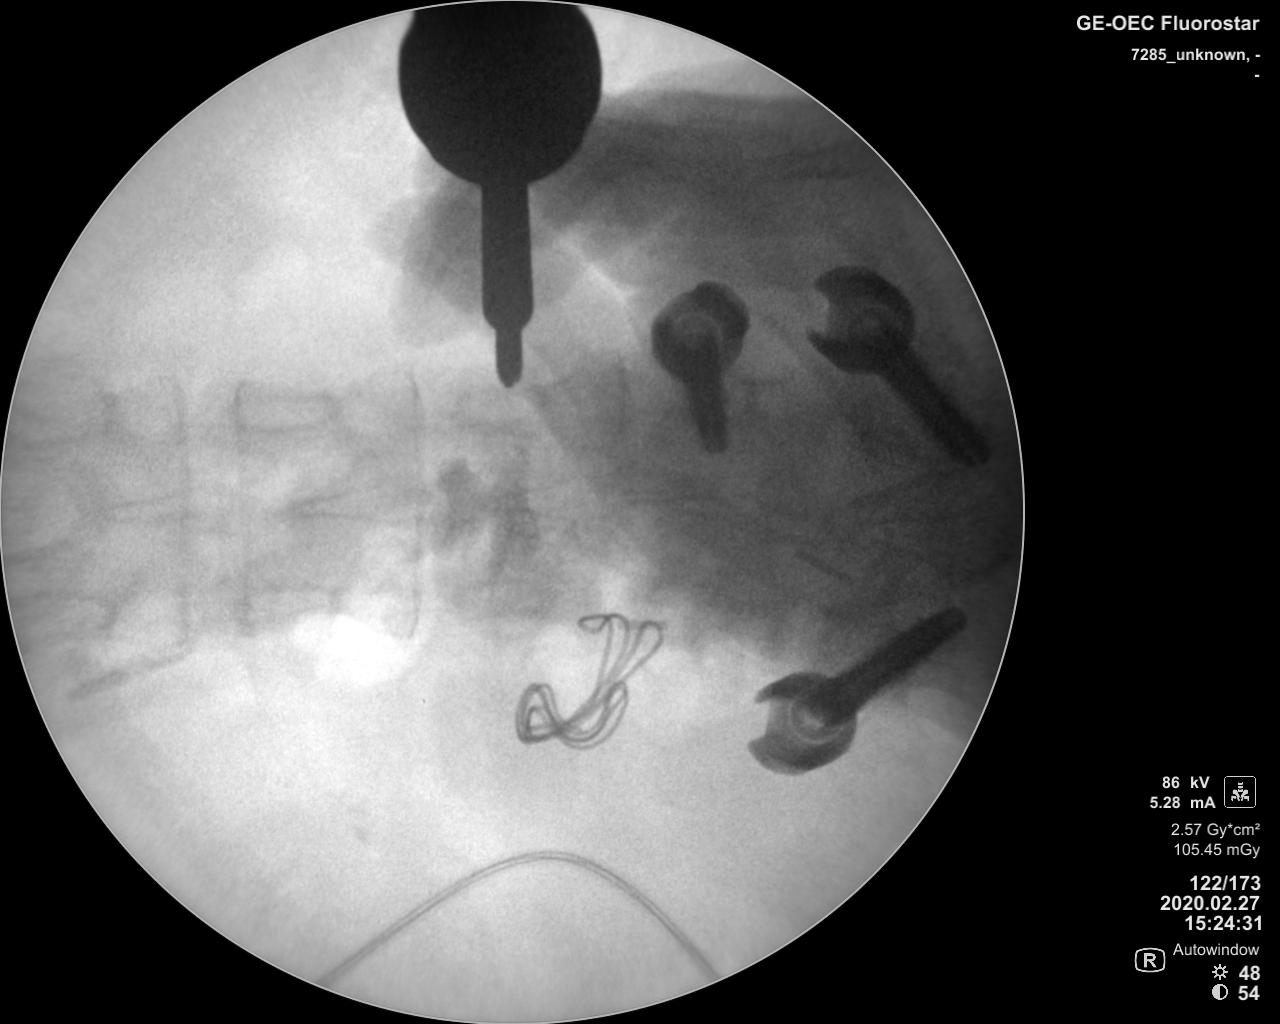eyes: (11, 379, 111, 453), (229, 382, 341, 430), (14, 589, 117, 639), (239, 584, 334, 625)
line: (163, 378, 202, 664), (402, 362, 430, 651)
nose: (94, 485, 252, 534), (283, 479, 438, 525)
